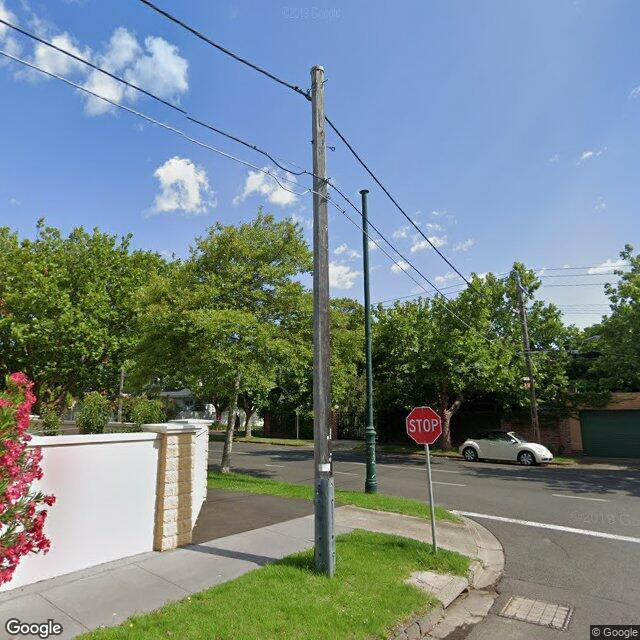steel-pole: (361, 190, 378, 494)
timber-pole: (310, 65, 336, 579), (514, 269, 540, 444)
